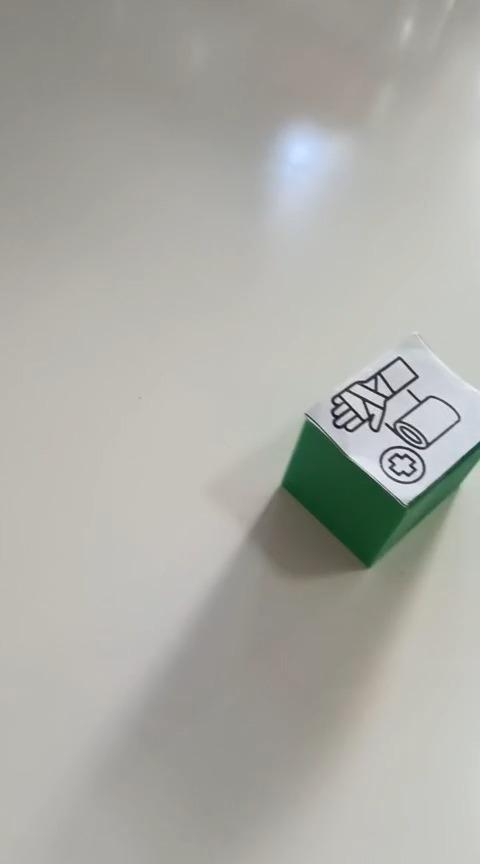Bandages: (279, 330, 479, 568)
